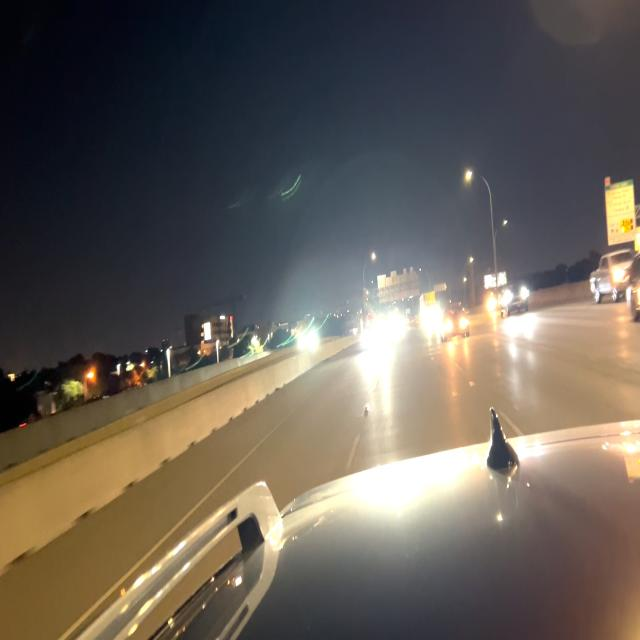back-of-sign: (376, 267, 421, 301)
